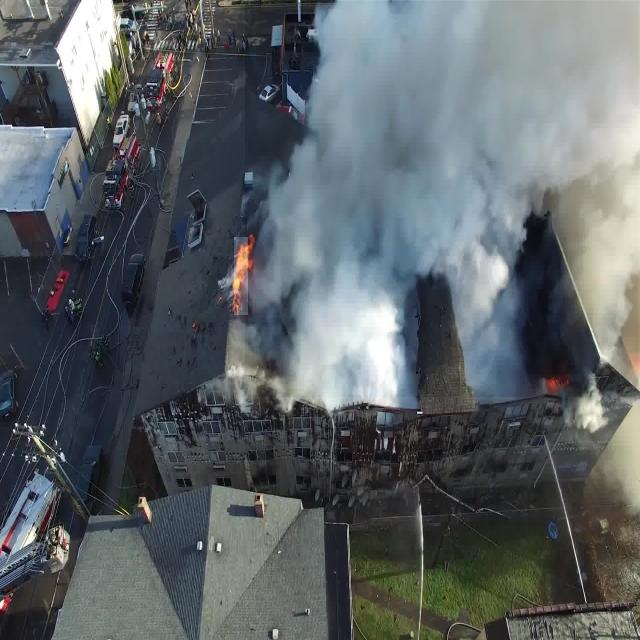Fire: (234, 238, 248, 316)
Smoke: (245, 1, 638, 397)
